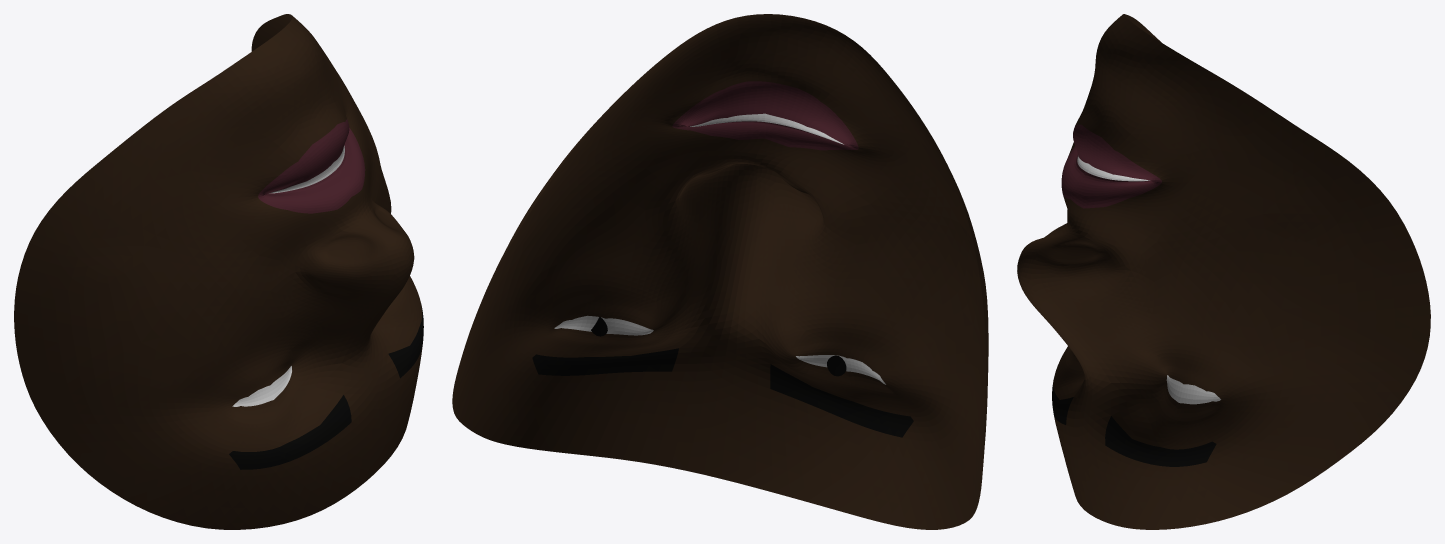
Rendered from frame_00120.obj.
The picture shows the model from 3 angles, left to right: view 1: azimuth 30°, elevation 25°; view 2: azimuth 150°, elevation 25°; view 3: azimuth 270°, elevation 25°; orthographic projection. The views are drawn at different scales.
Visible parts, largest first — view 1: face_mesh_subdivided; view 2: face_mesh_subdivided; view 3: face_mesh_subdivided.
Boxes of the visible parts, bbox=[...] form: face_mesh_subdivided: bbox=[14, 14, 423, 529]; face_mesh_subdivided: bbox=[452, 14, 988, 529]; face_mesh_subdivided: bbox=[1017, 14, 1430, 529].
Bounding box in the file's own units: 0.4941 × 0.5355 × 0.4302.
